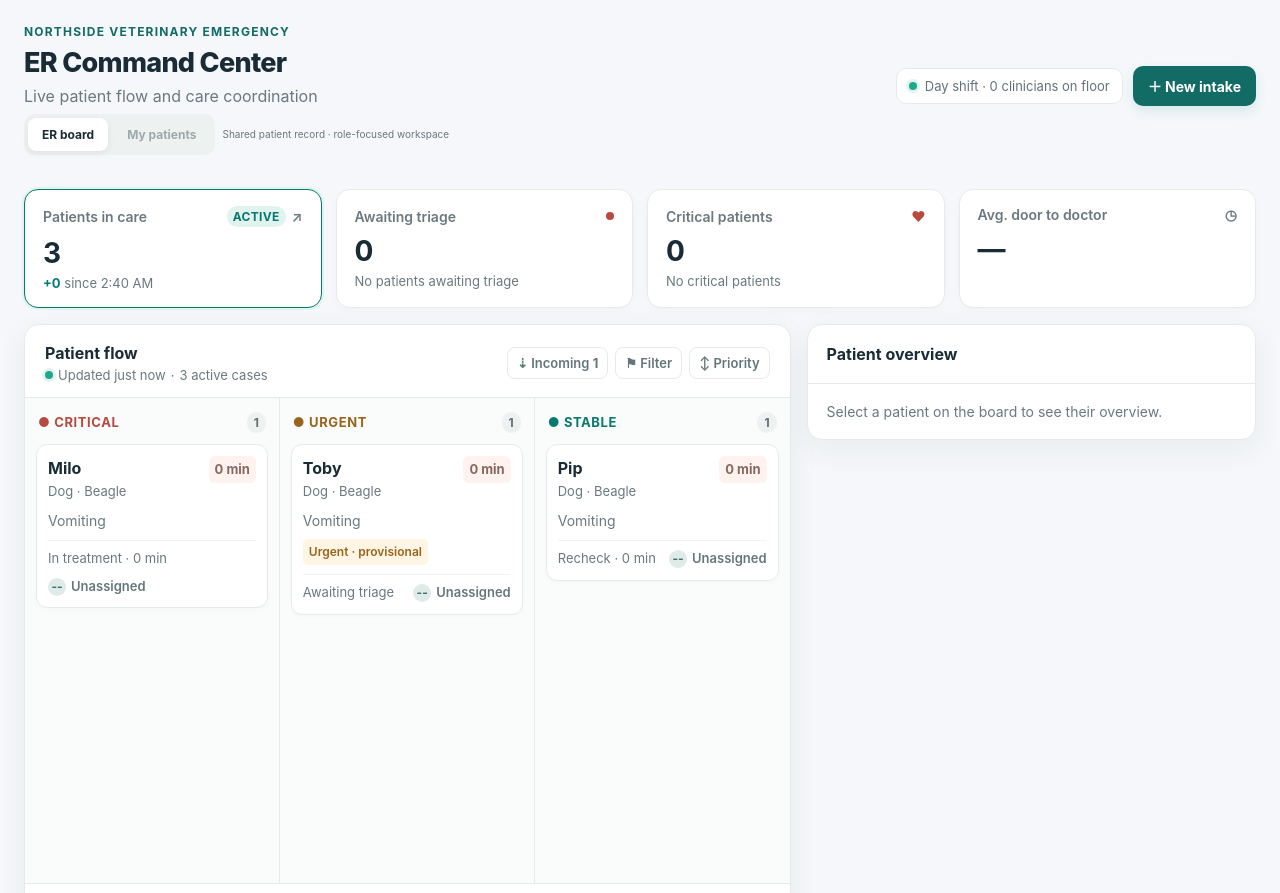
Test: ErBoardPage › stat cards › keeps the board as it is when nobody awaits triage
The width and height of the screenshot is (1280, 893).
Check: the heading "Milo" is shown, box x1=48 y1=456 x2=81 y2=480
Click the button "Awaiting triage 0 No patients awaiting triage". click: (405,216)
box: x1=336 y1=189 x2=633 y2=308
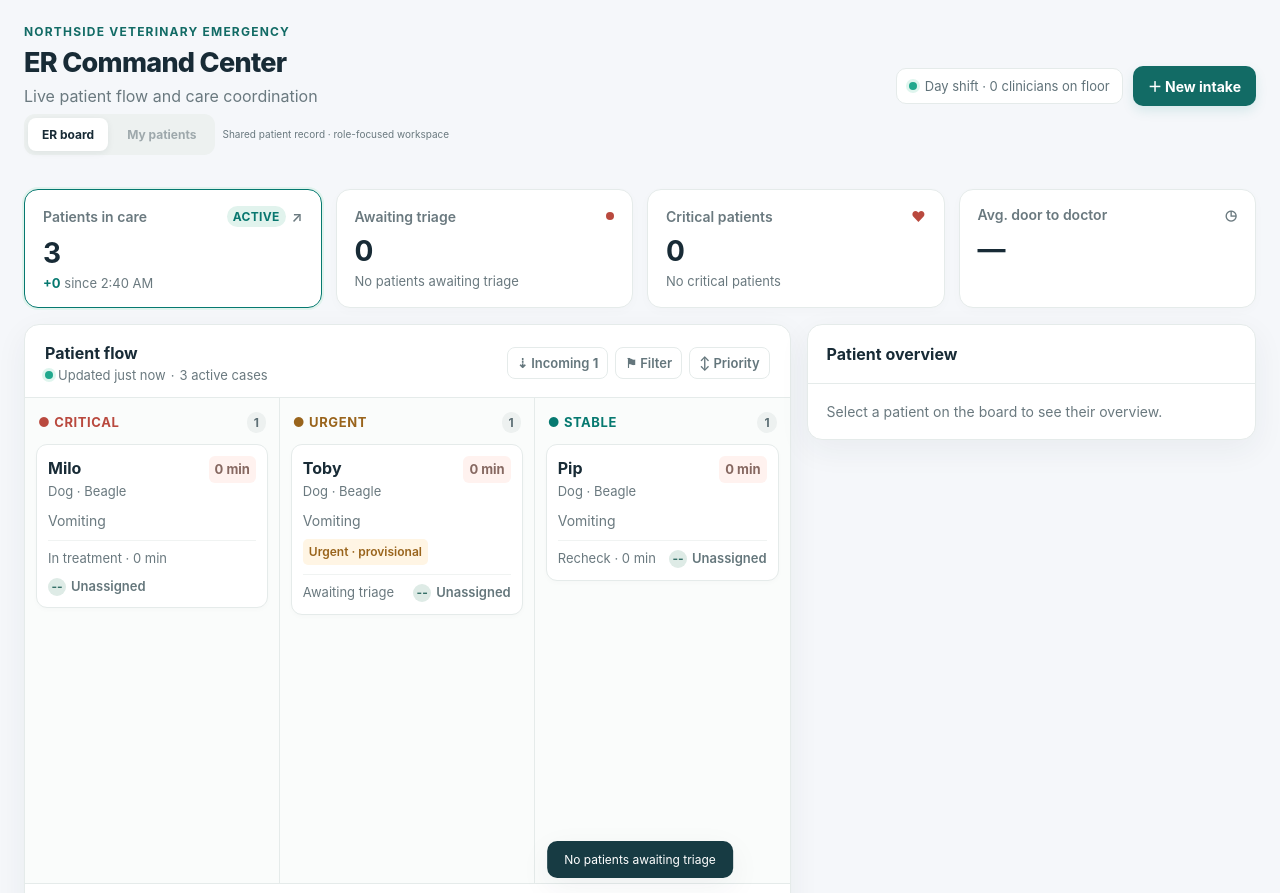
Check: the message reads "No patients awaiting triage", box x1=564 y1=852 x2=716 y2=867
